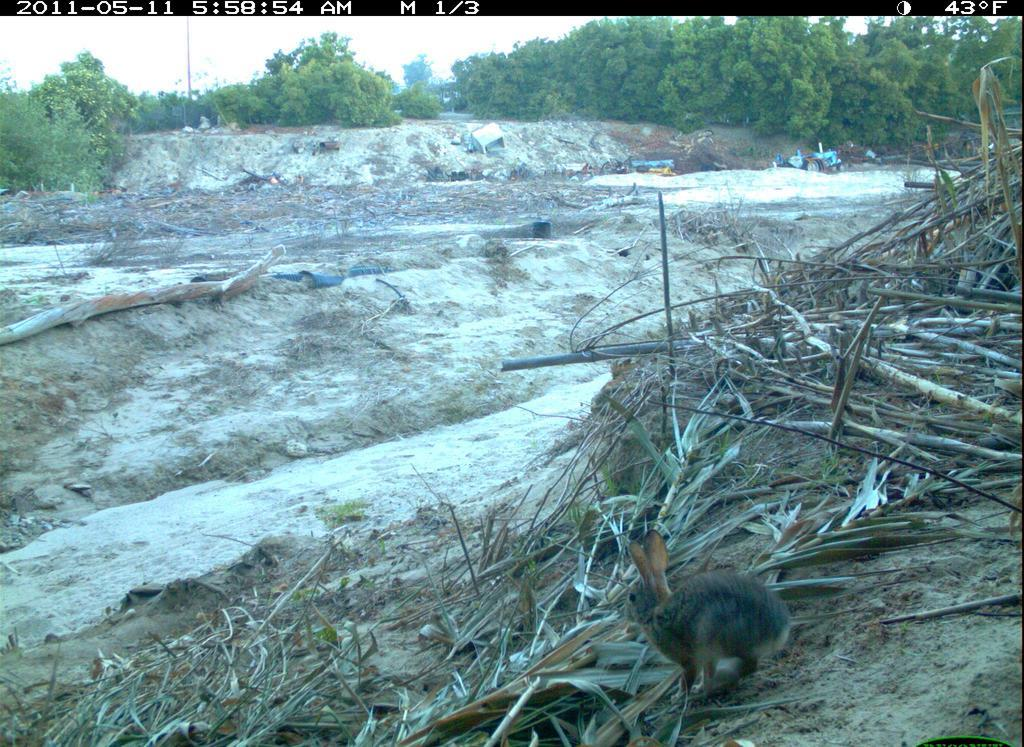rabbit: (607, 530, 795, 699)
